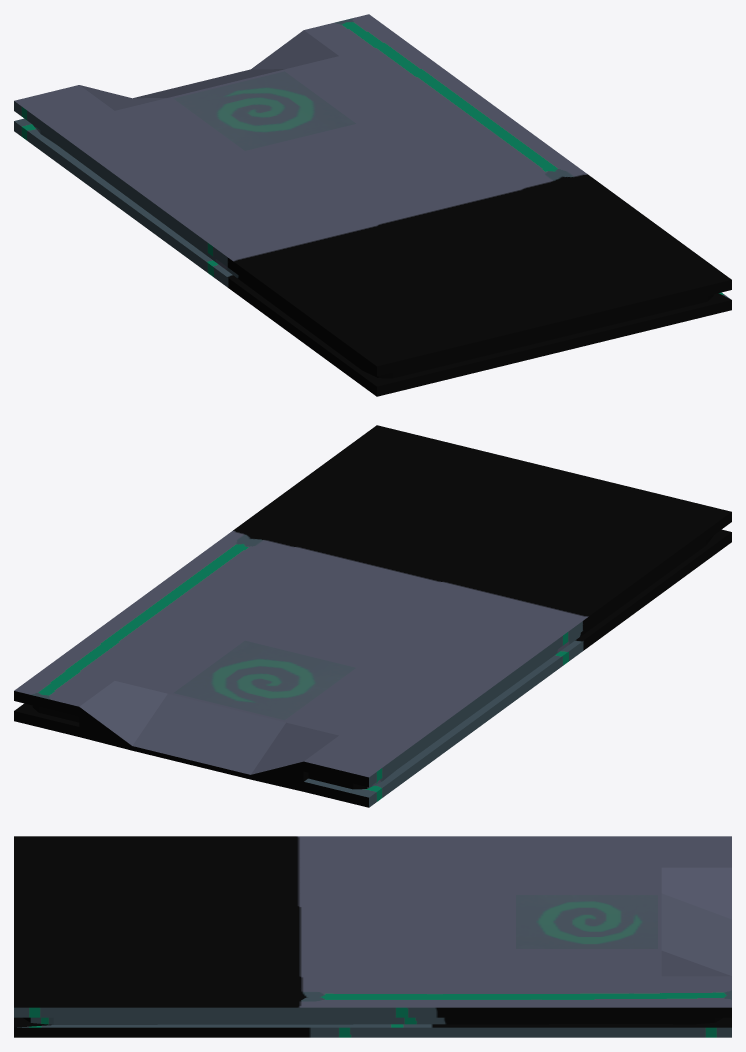
The model's file is RuinsTemplePlatform.fbx.
The picture shows the model from 3 angles, top to bottom: view 1: azimuth 30°, elevation 25°; view 2: azimuth 150°, elevation 25°; view 3: azimuth 270°, elevation 25°; orthographic projection.
Visible parts, largest first — view 1: Cube; view 2: Cube; view 3: Cube.
Part boxes in pixels (x1,y1,x2,y2): Cube: [14, 14, 731, 396]; Cube: [14, 425, 731, 807]; Cube: [14, 836, 731, 1037].
Bounding box in the file's own units: 32.52 × 2.72 × 57.57.
